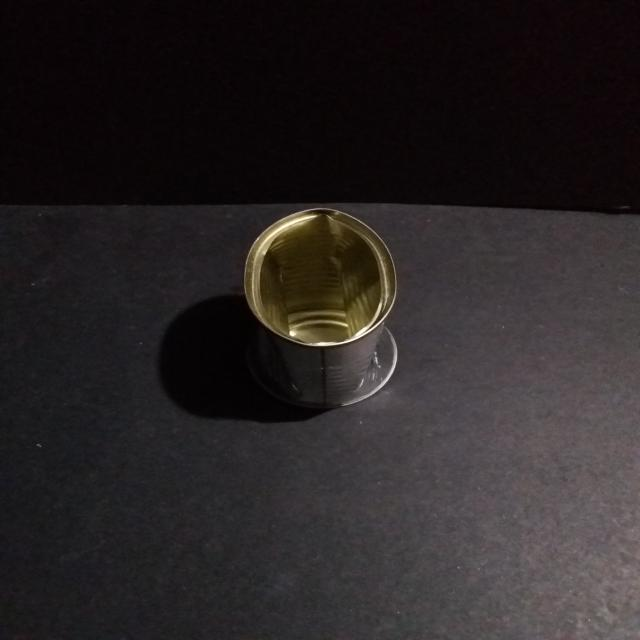metal-can: (240, 202, 402, 412)
